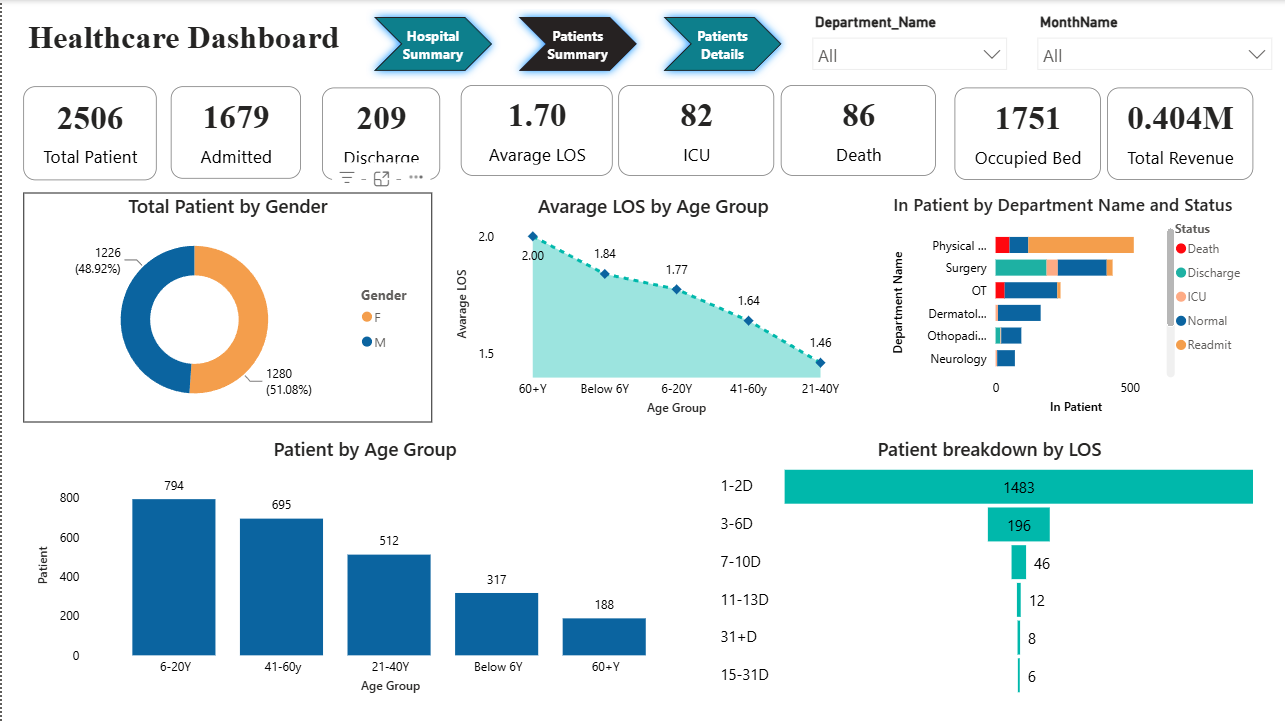

What the dashboard file says about the page in this screenshot:
{"tool":"powerbi","page":{"name":"Patients Summary ","canvas":[1280,720],"ordinal":1},"visuals":[{"type":"cardVisual","fields":{"Data":["Measure.Total Patient"]},"box":[21.2,86.2,132.5,93.8],"z":0},{"type":"textbox","box":[21.1,13.7,386.9,65.9],"z":1000},{"type":"slicer","fields":{"Values":["Department.Department_Name"]},"box":[796.1,8.7,213.9,71.3],"z":2000},{"type":"slicer","fields":{"Values":["Calendar_date.MonthName"]},"box":[1020,8.7,253.6,71.3],"z":3000},{"type":"cardVisual","fields":{"Data":["Measure.In Patient"]},"box":[167.5,85.6,129.6,91.7],"z":4000},{"type":"cardVisual","fields":{"Data":["Measure.Total Discharge"]},"box":[319,86.8,117.4,91.7],"z":5000},{"type":"cardVisual","fields":{"Data":["Measure.Avarage LOS"]},"box":[456,84.3,151.6,90.5],"z":6000},{"type":"cardVisual","fields":{"Data":["Measure.ICU"]},"box":[613.7,84.3,155.2,90.5],"z":7000},{"type":"cardVisual","fields":{"Data":["Measure.Death"]},"box":[775,84.3,154,90.5],"z":8000},{"type":"cardVisual","fields":{"Data":["Measure.Occupied Bed"]},"box":[947.4,86.8,145.5,91.7],"z":9000},{"type":"cardVisual","fields":{"Data":["Measure.Total Revenue"]},"box":[1100.2,86.8,145.5,91.7],"z":10000},{"type":"donutChart","fields":{"Category":["Detail data dataset.Gender"],"Y":["Measure.Total Patient"]},"box":[20.8,191.9,407.1,228.6],"z":11000},{"type":"columnChart","fields":{"Category":["Detail data dataset.Age Bucket"],"Y":["Measure.Total Patient"]},"box":[31.1,434.1,660.5,261.2],"z":12000},{"type":"areaChart","fields":{"Category":["Detail data dataset.Age Bucket"],"Y":["Measure.Avarage LOS"]},"box":[447.8,191.6,400.6,226.4],"z":13000},{"type":"barChart","fields":{"Category":["Department.Department_Name"],"Series":["Detail data dataset.Status"],"Y":["Measure.In Patient"]},"box":[881.4,191.9,364.3,226.1],"z":14000},{"type":"funnel","title":"Patient breakdown by LOS","fields":{"Category":["Detail data dataset.Custom"],"Y":["Measure.Total Patient"]},"box":[710.3,434.1,544.9,263.7],"z":15000},{"type":"pageNavigator","box":[362,8.7,424.2,70.9],"z":17000}]}

Visuals, with their boxes in screenshot pixels (x1, y1, x2, y2), scaled from the page's 1280x720 canvas onto the 1285x723 screenshot:
cardVisual - Measure.Total Patient: [x1=21, y1=87, x2=154, y2=181]
textbox: [x1=21, y1=14, x2=410, y2=80]
slicer - Department.Department_Name: [x1=799, y1=9, x2=1014, y2=80]
slicer - Calendar_date.MonthName: [x1=1024, y1=9, x2=1279, y2=80]
cardVisual - Measure.In Patient: [x1=168, y1=86, x2=298, y2=178]
cardVisual - Measure.Total Discharge: [x1=320, y1=87, x2=438, y2=179]
cardVisual - Measure.Avarage LOS: [x1=458, y1=85, x2=610, y2=176]
cardVisual - Measure.ICU: [x1=616, y1=85, x2=772, y2=176]
cardVisual - Measure.Death: [x1=778, y1=85, x2=933, y2=176]
cardVisual - Measure.Occupied Bed: [x1=951, y1=87, x2=1097, y2=179]
cardVisual - Measure.Total Revenue: [x1=1104, y1=87, x2=1251, y2=179]
donutChart - Detail data dataset.Gender x Measure.Total Patient: [x1=21, y1=193, x2=430, y2=422]
columnChart - Detail data dataset.Age Bucket x Measure.Total Patient: [x1=31, y1=436, x2=694, y2=698]
areaChart - Detail data dataset.Age Bucket x Measure.Avarage LOS: [x1=450, y1=192, x2=852, y2=420]
barChart - Department.Department_Name x Detail data dataset.Status: [x1=885, y1=193, x2=1251, y2=420]
"Patient breakdown by LOS" funnel: [x1=713, y1=436, x2=1260, y2=701]
pageNavigator: [x1=363, y1=9, x2=789, y2=80]
